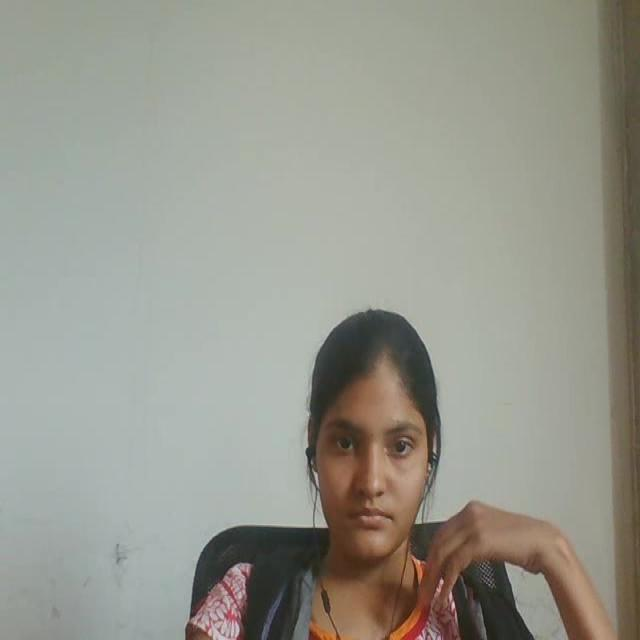Engaged: (291, 287, 459, 581)
